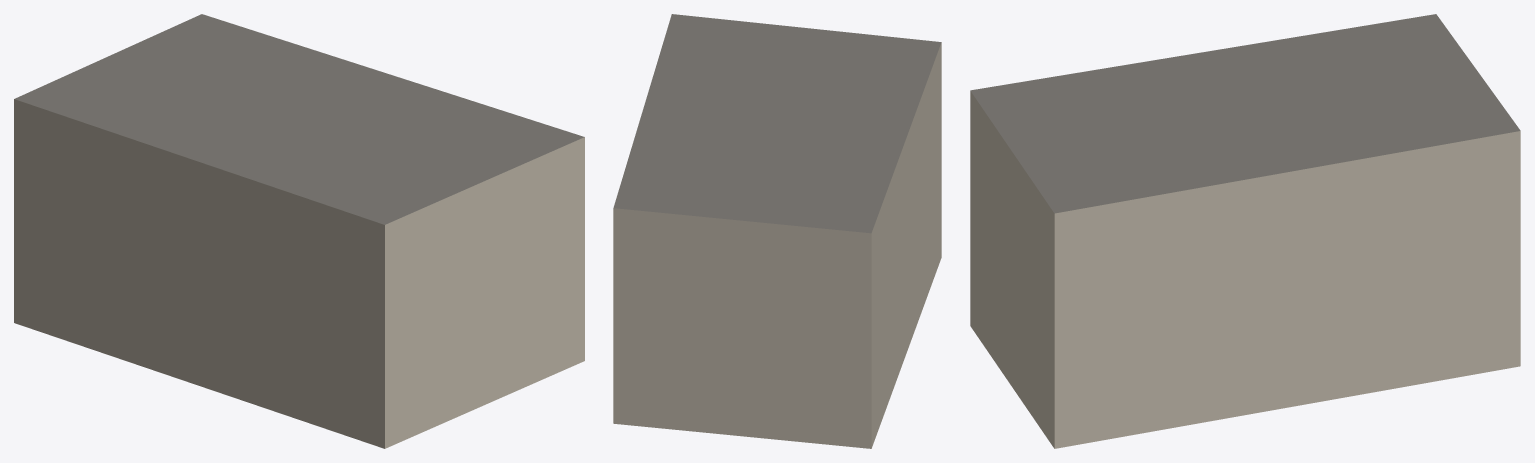
3 views of the same model, side by side, from view 1: azimuth 30°, elevation 25°; view 2: azimuth 150°, elevation 25°; view 3: azimuth 270°, elevation 25° (orthographic). The views are drawn at different scales.
Visible parts, largest first — view 1: HP-w1070642363; view 2: HP-w1070642363; view 3: HP-w1070642363.
Boxes of the visible parts, x1,y1,x2,y2 form: HP-w1070642363: (14,14,584,448); HP-w1070642363: (613,14,941,448); HP-w1070642363: (970,14,1520,448).
Size of the model in its own units: 32.72 by 18 by 38.15.
